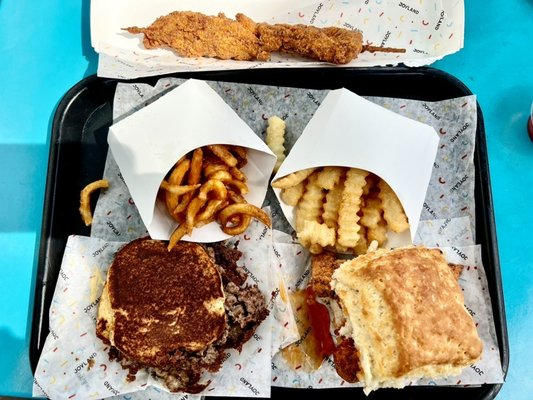soup: (327, 246, 484, 391), (272, 165, 414, 256)
